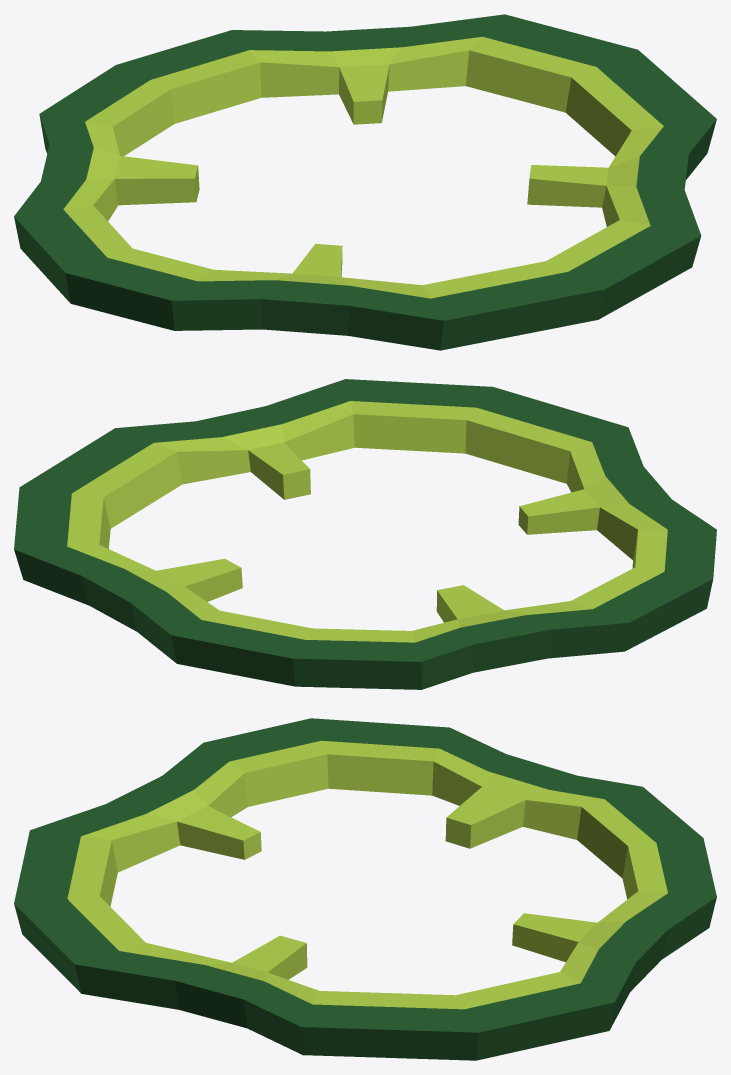
Rendered from Bell pepper green slice.obj.
The picture shows the model from 3 angles, top to bottom: view 1: azimuth 30°, elevation 25°; view 2: azimuth 150°, elevation 25°; view 3: azimuth 270°, elevation 25°; orthographic projection. The views are drawn at different scales.
Visible parts, largest first — view 1: Bell pepper green slice_0; view 2: Bell pepper green slice_0; view 3: Bell pepper green slice_0.
Boxes of the visible parts, box(x1,y1,x2,y2) form: Bell pepper green slice_0: box(14, 14, 716, 350); Bell pepper green slice_0: box(14, 379, 716, 689); Bell pepper green slice_0: box(14, 718, 716, 1060).
Size of the model in its own units: 0.5904 by 0.0282 by 0.558.
1 material, 1 textured.
